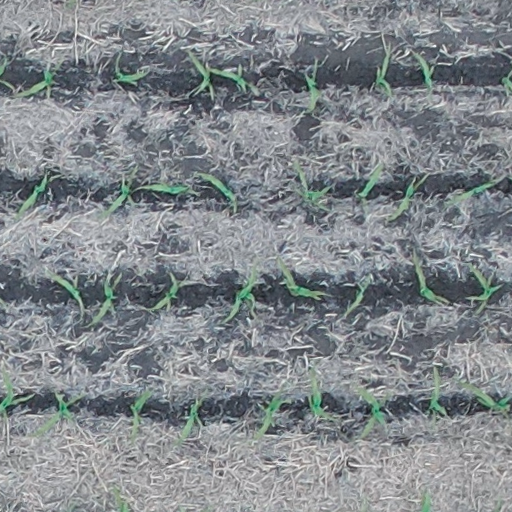planta: (253, 383, 292, 437), (279, 259, 332, 298), (294, 160, 333, 213), (99, 166, 138, 218), (36, 391, 81, 435), (223, 267, 258, 322), (390, 172, 430, 219), (468, 263, 504, 315), (46, 271, 84, 317), (195, 171, 237, 212), (90, 274, 121, 325), (357, 386, 388, 437), (174, 395, 205, 445), (15, 172, 49, 217), (147, 274, 188, 311), (459, 383, 510, 411), (414, 255, 444, 302), (128, 387, 154, 441), (205, 64, 253, 93), (307, 368, 334, 419), (187, 51, 215, 99), (15, 66, 54, 99), (447, 177, 496, 203), (136, 179, 199, 197), (427, 365, 448, 416), (343, 277, 372, 313), (372, 47, 393, 95), (301, 59, 320, 112), (113, 57, 148, 83), (357, 163, 382, 199), (412, 52, 433, 93)
